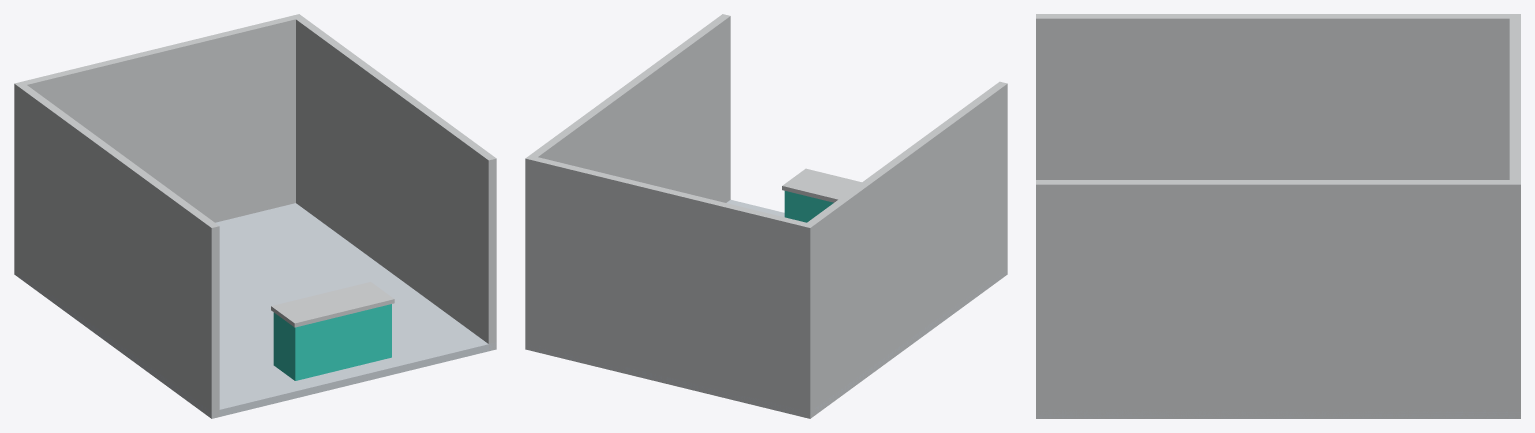
3 views of the same model, side by side, from view 1: azimuth 30°, elevation 25°; view 2: azimuth 150°, elevation 25°; view 3: azimuth 270°, elevation 25° (orthographic). The views are drawn at different scales.
Visible parts, largest first — view 1: Exhibition Booth Concept; view 2: Exhibition Booth Concept; view 3: Exhibition Booth Concept.
Part boxes in pixels (x1=…): Exhibition Booth Concept: x1=14, y1=14, x2=496, y2=418; Exhibition Booth Concept: x1=525, y1=14, x2=1007, y2=418; Exhibition Booth Concept: x1=1036, y1=14, x2=1520, y2=418.
Bounding box in the file's own units: 5 × 3.2 × 6.
